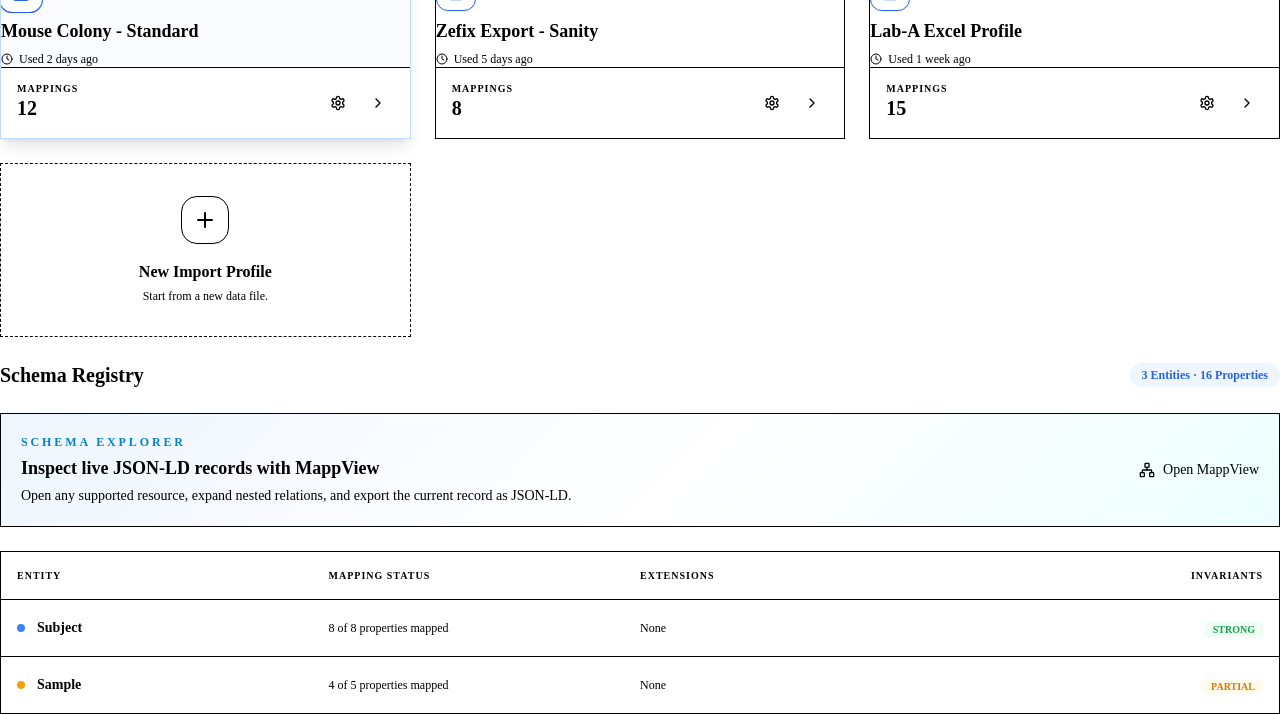
DataCurationModule › navigates to MappView from the schema registry entry point
(page scrolled)
Click the button "Open MappView": x=1199, y=470 [1139,460,1259,480]
(page scrolled)
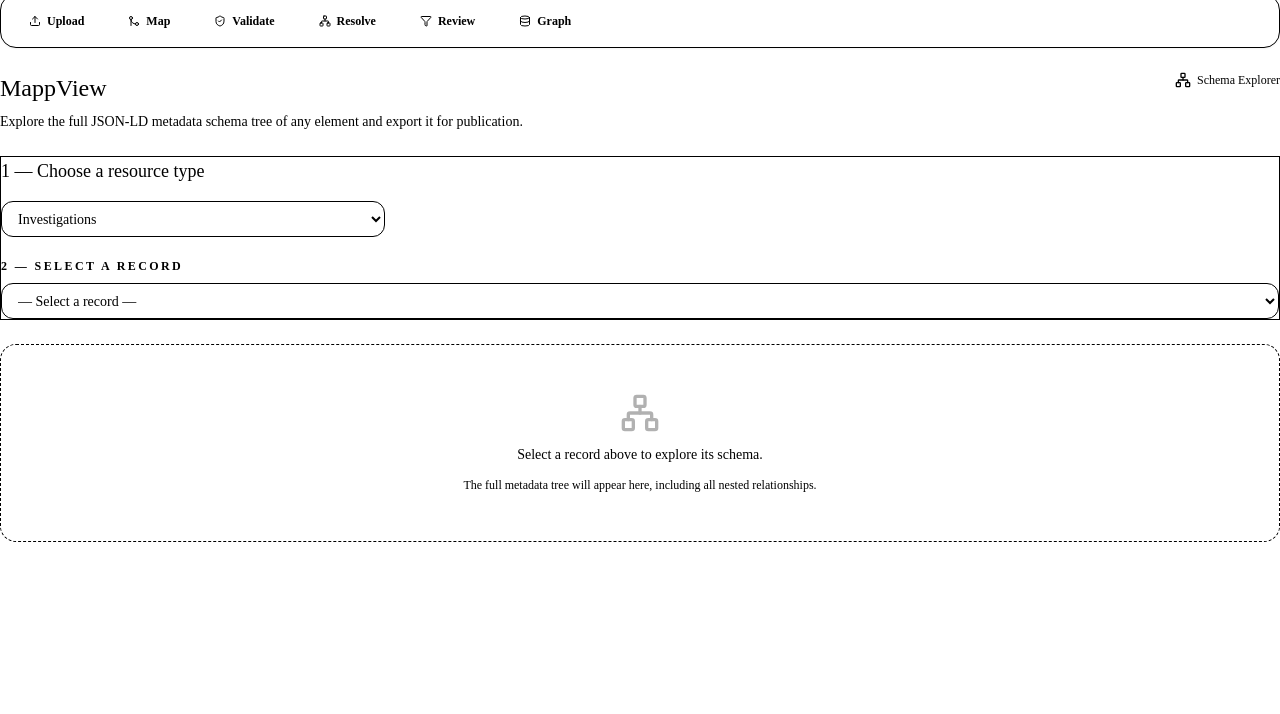
Now the heading "MappView" is shown, box [0,75,106,101]
Now the dropdown named "Resource type" is shown, box [1,201,385,237]
